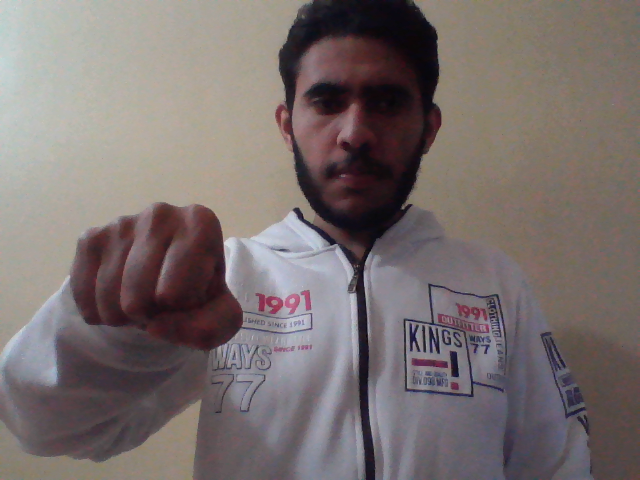yes: (62, 200, 249, 359)
